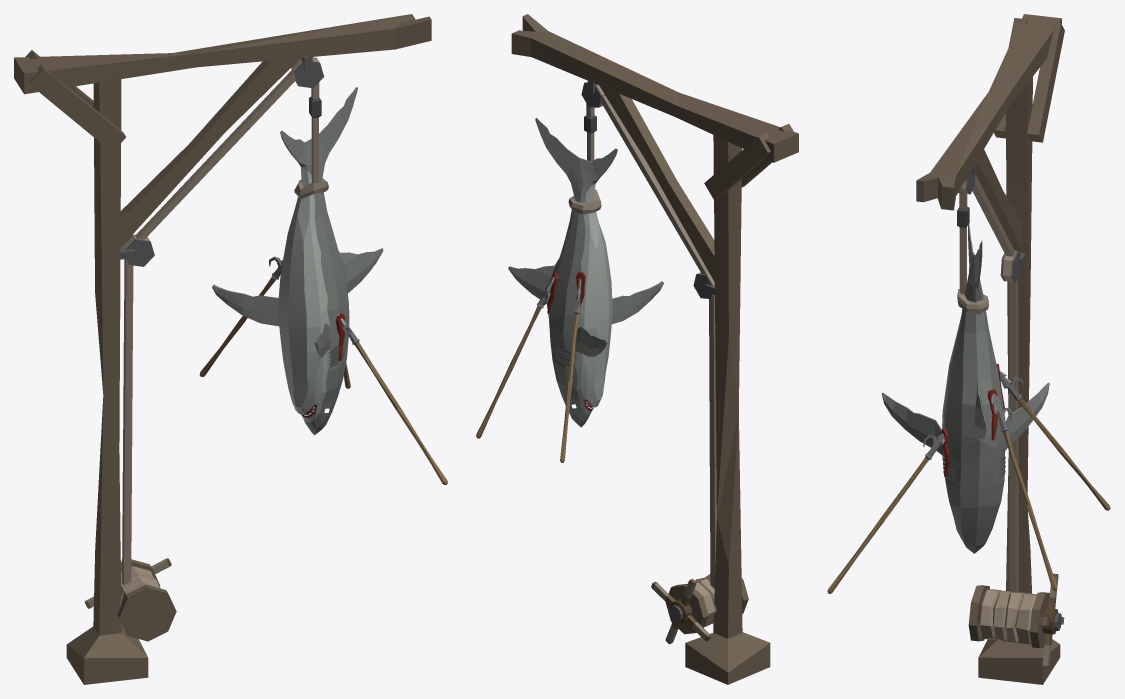
The model's file is Squalo.fbx.
3 views of the same model, side by side, from view 1: azimuth 30°, elevation 25°; view 2: azimuth 150°, elevation 25°; view 3: azimuth 270°, elevation 25° (orthographic). The views are drawn at different scales.
Visible parts, largest first — view 1: SM_Prop_Crane_Shark_01; view 2: SM_Prop_Crane_Shark_01; view 3: SM_Prop_Crane_Shark_01.
Part boxes in pixels (x1,y1,x2,y2): SM_Prop_Crane_Shark_01: (14, 14, 447, 684); SM_Prop_Crane_Shark_01: (476, 14, 798, 684); SM_Prop_Crane_Shark_01: (827, 14, 1110, 684).
Size of the model in its own units: 438 by 729 by 301.
Materials: 1 (1 with a texture image).
